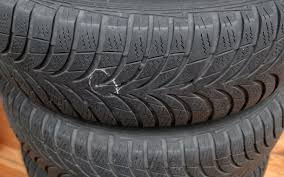tire: (1, 1, 284, 123), (1, 98, 284, 176)
